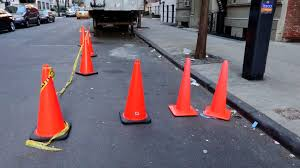cones: (30, 63, 70, 142), (117, 57, 150, 125), (203, 59, 234, 120), (169, 56, 199, 119), (77, 35, 99, 78)
